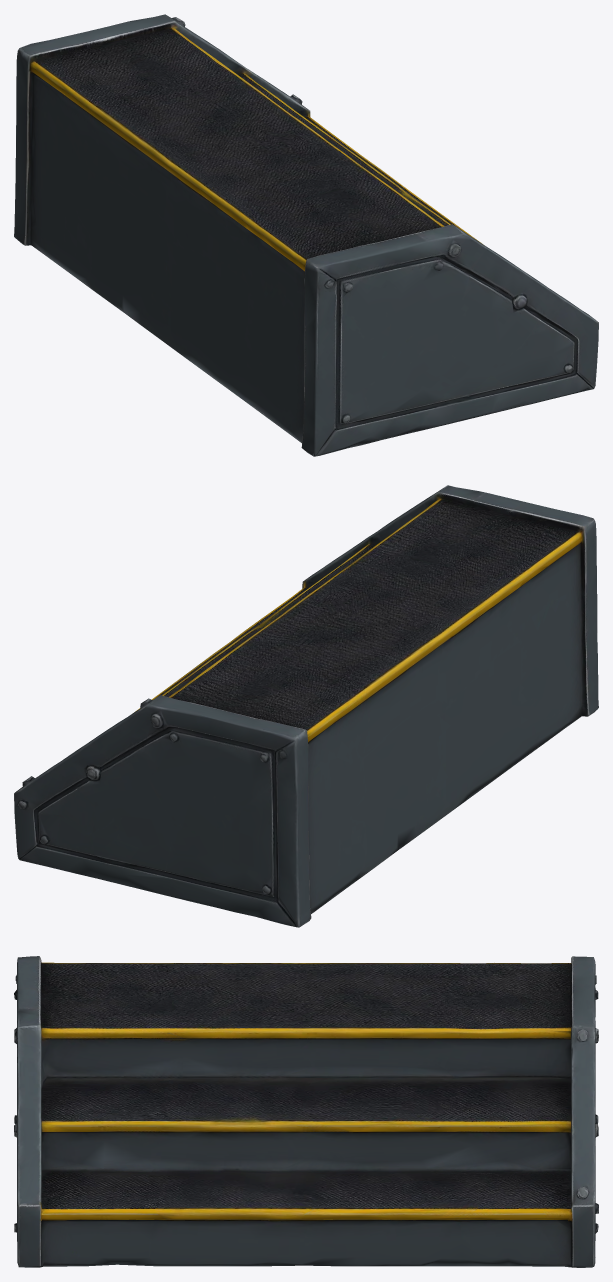
Rendered from steps.glb.
The picture shows the model from 3 angles, top to bottom: view 1: azimuth 30°, elevation 25°; view 2: azimuth 150°, elevation 25°; view 3: azimuth 270°, elevation 25°; orthographic projection. The views are drawn at different scales.
Parts seen in each view (by area): view 1: tripo_node_12977521-fc53-48f2-9d06-ef21aad1cfef; view 2: tripo_node_12977521-fc53-48f2-9d06-ef21aad1cfef; view 3: tripo_node_12977521-fc53-48f2-9d06-ef21aad1cfef.
Boxes of the visible parts, x1,y1,x2,y2 form: tripo_node_12977521-fc53-48f2-9d06-ef21aad1cfef: (14,14,598,456); tripo_node_12977521-fc53-48f2-9d06-ef21aad1cfef: (14,485,598,927); tripo_node_12977521-fc53-48f2-9d06-ef21aad1cfef: (14,956,598,1267).
Size of the model in its own units: 0.5437 by 0.3448 by 1.
Materials: 1 (1 with a texture image).
